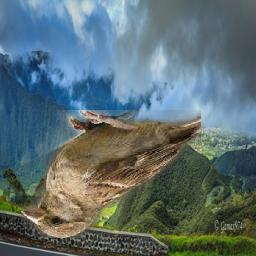Sparrow: (21, 110, 201, 238)
